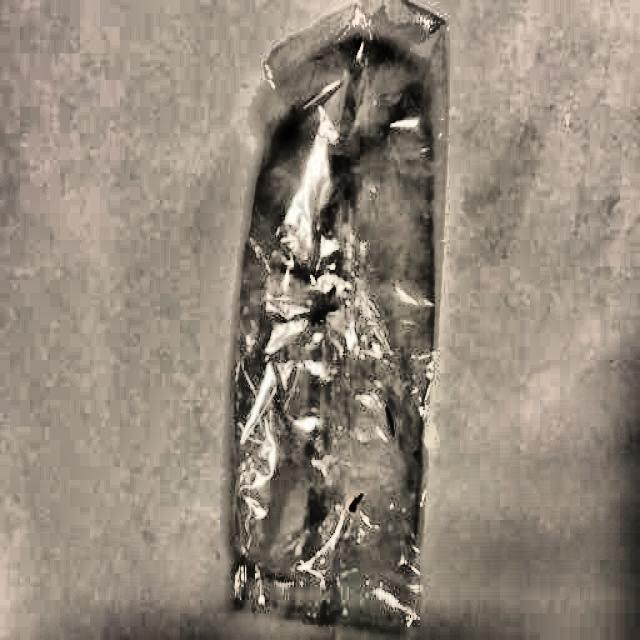trash: (261, 9, 434, 640)
